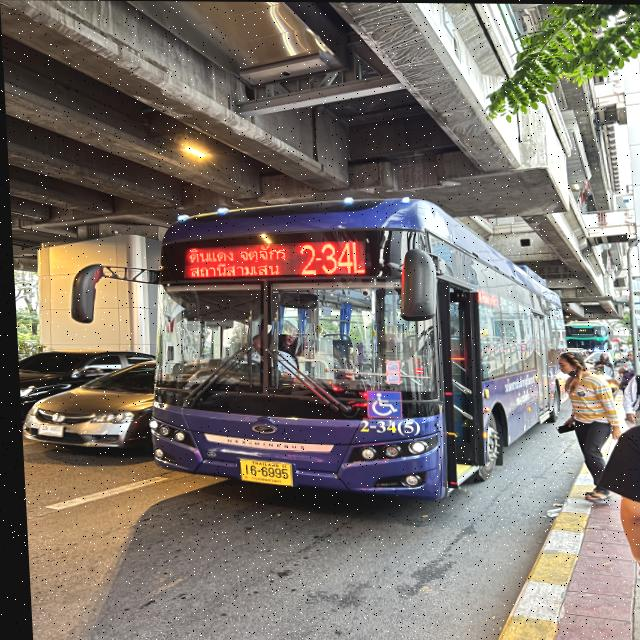Bus-Line-Number: (291, 241, 369, 276)
Destination-Sign-Normal: (180, 244, 289, 278)
TSB-Bus: (127, 184, 575, 508)
